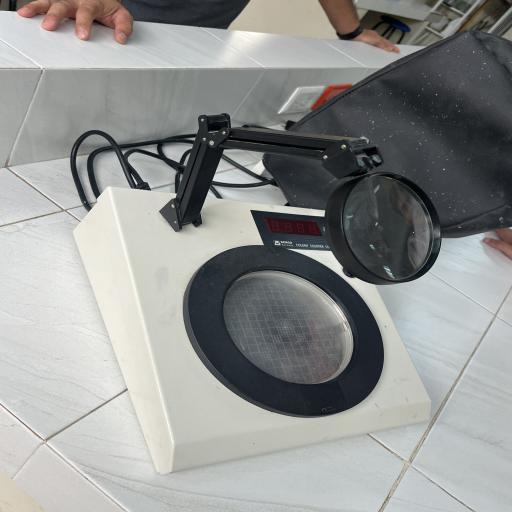Contador_Colonias_CC1: (66, 109, 450, 478)
